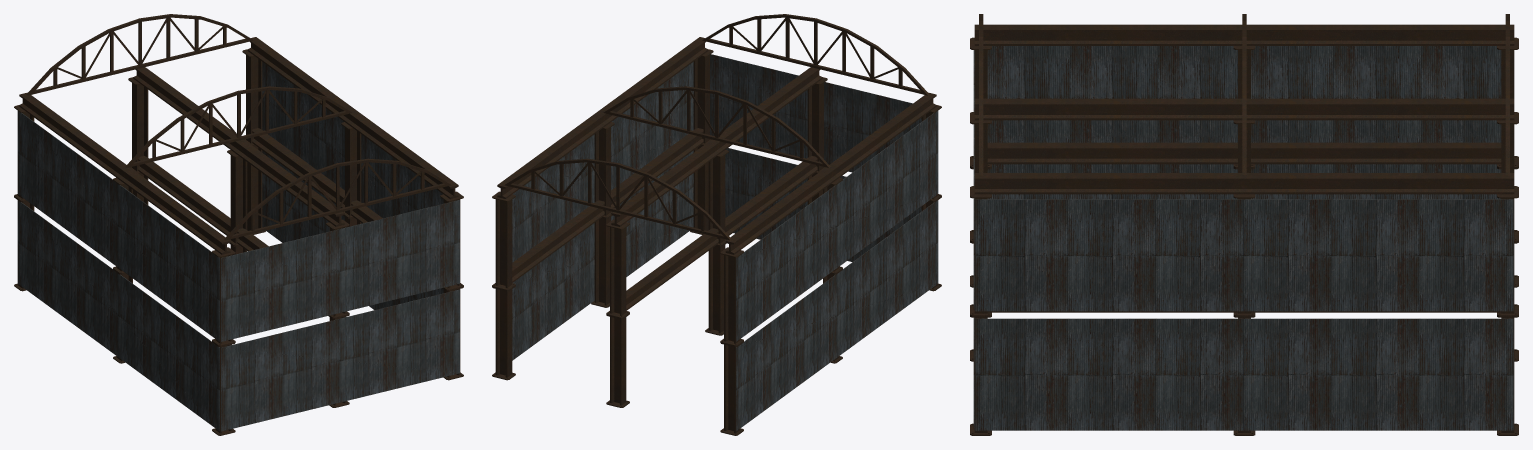
File: warehouse_hl_1_end_closed.glb
The picture shows the model from 3 angles, left to right: view 1: azimuth 30°, elevation 25°; view 2: azimuth 150°, elevation 25°; view 3: azimuth 270°, elevation 25°; orthographic projection. The views are drawn at different scales.
Parts seen in each view (by area): view 1: warehouse_hl_1_end_closed; view 2: warehouse_hl_1_end_closed; view 3: warehouse_hl_1_end_closed.
Boxes of the visible parts, bbox=[...] form: warehouse_hl_1_end_closed: bbox=[14, 14, 463, 435]; warehouse_hl_1_end_closed: bbox=[492, 14, 941, 435]; warehouse_hl_1_end_closed: bbox=[970, 14, 1518, 435].
Bounding box in the file's own units: 8.6 × 8.02 × 12.5.
Materials: 2 (2 with a texture image).
